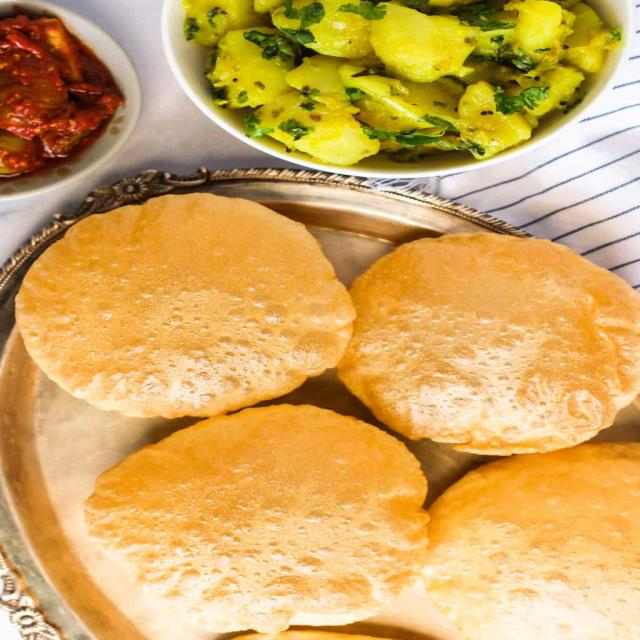poori: (66, 400, 437, 640), (19, 177, 360, 416), (331, 216, 640, 461), (406, 440, 640, 640)
